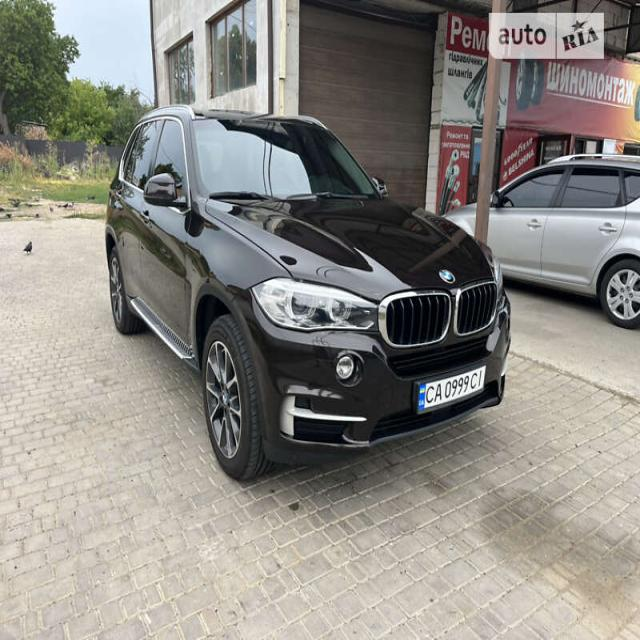plate: (418, 362, 491, 407)
